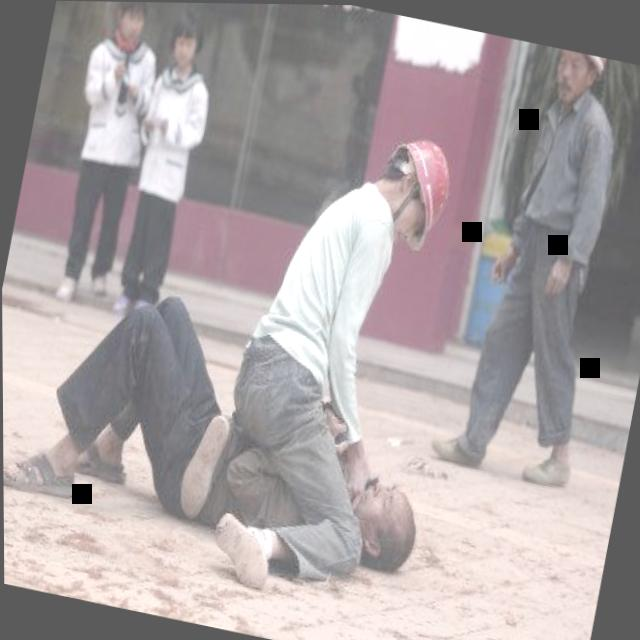Fall-Detected: (2, 265, 471, 594)
